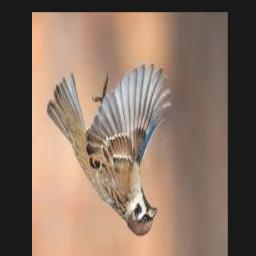Sparrow: (47, 64, 170, 236)
